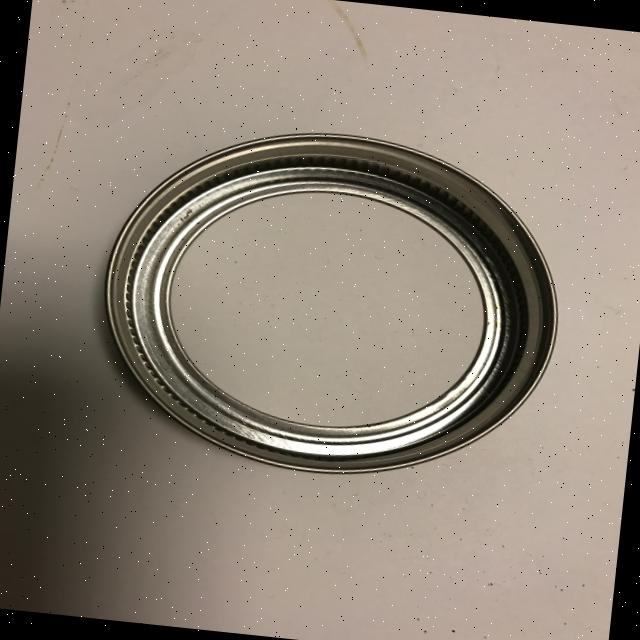metal: (87, 109, 576, 496)
